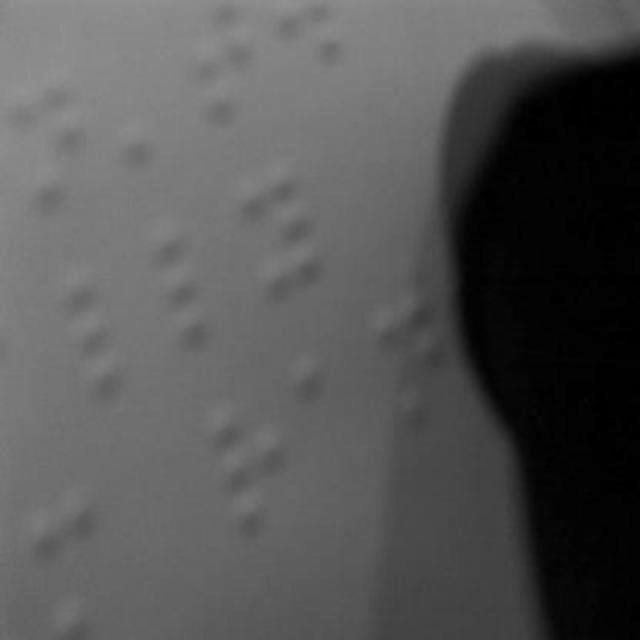braiile: (240, 162, 334, 296), (150, 220, 246, 350), (208, 398, 296, 534), (13, 64, 97, 206), (65, 266, 151, 398)
